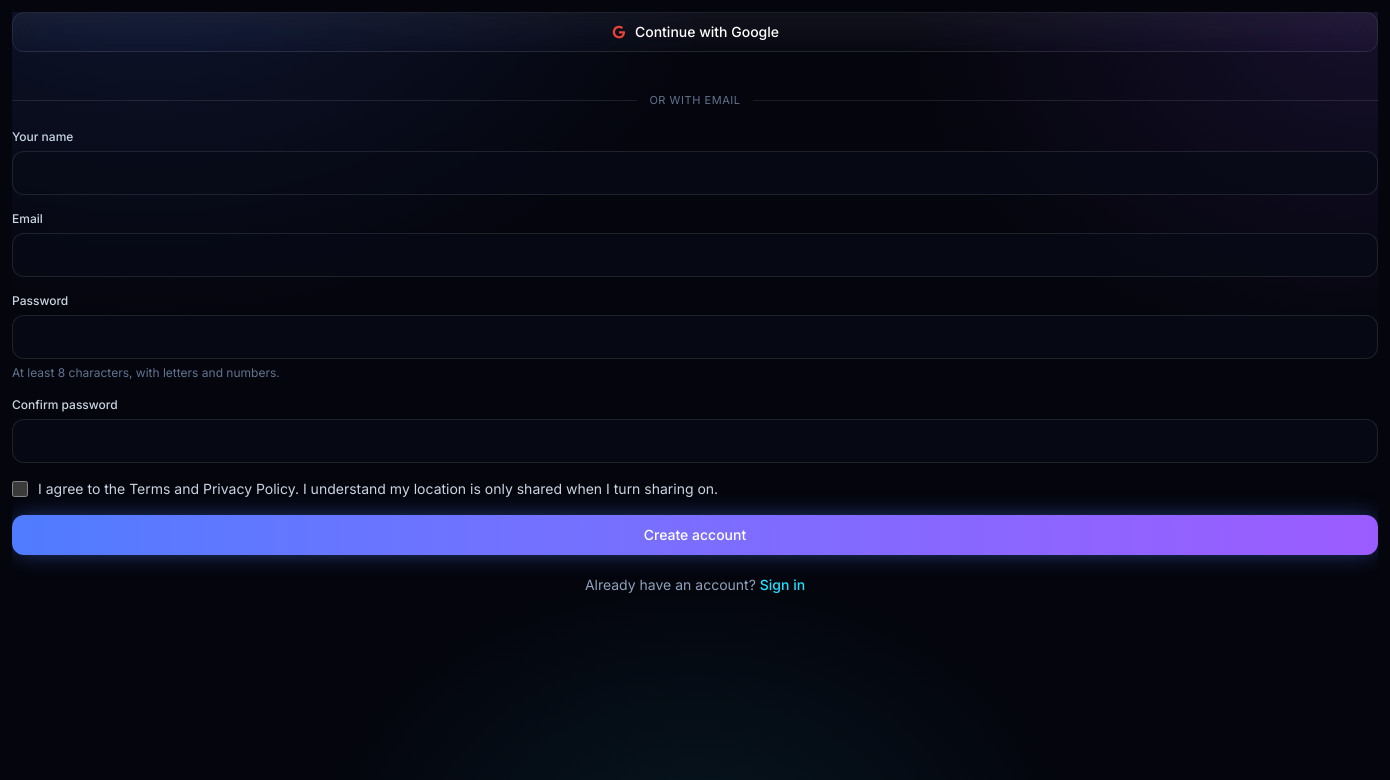
Test: RegisterForm › requires consent to the terms before creating an account
In the field labelled "Your name": (695, 172) [12, 150, 1378, 194], type "Ann Lee"
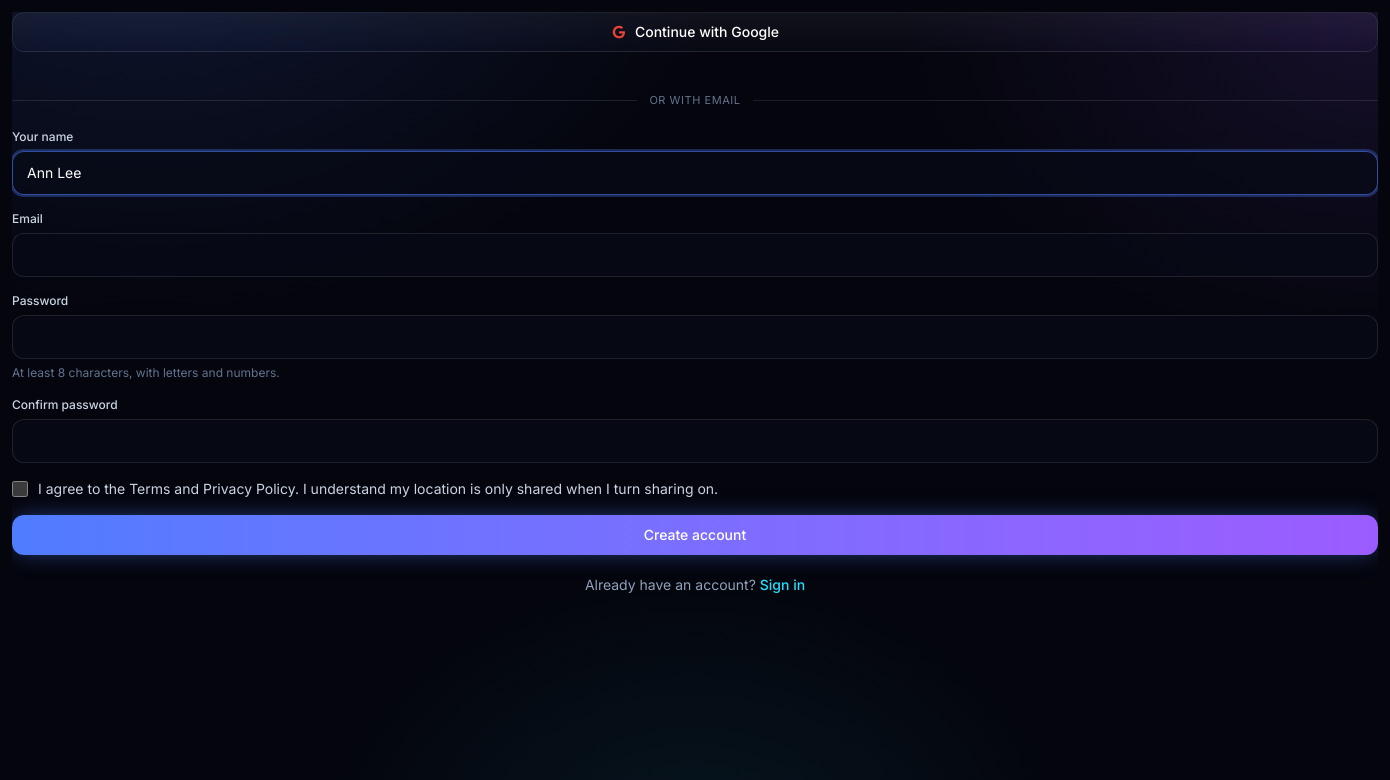
In the field labelled "Email": (695, 254) [12, 232, 1378, 276], type "ann@example.com"
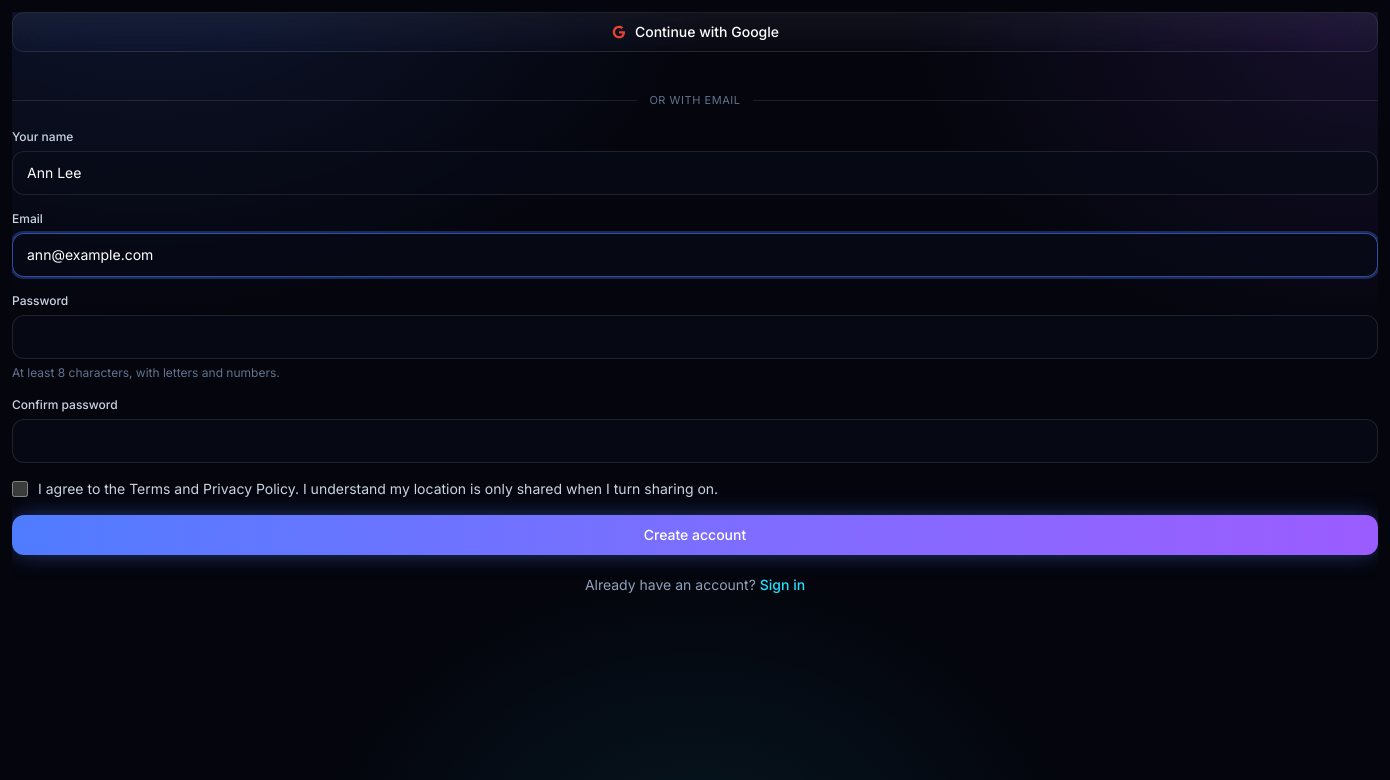
In the password field labelled "Password": (695, 336) [12, 314, 1378, 358], type "safe1234"
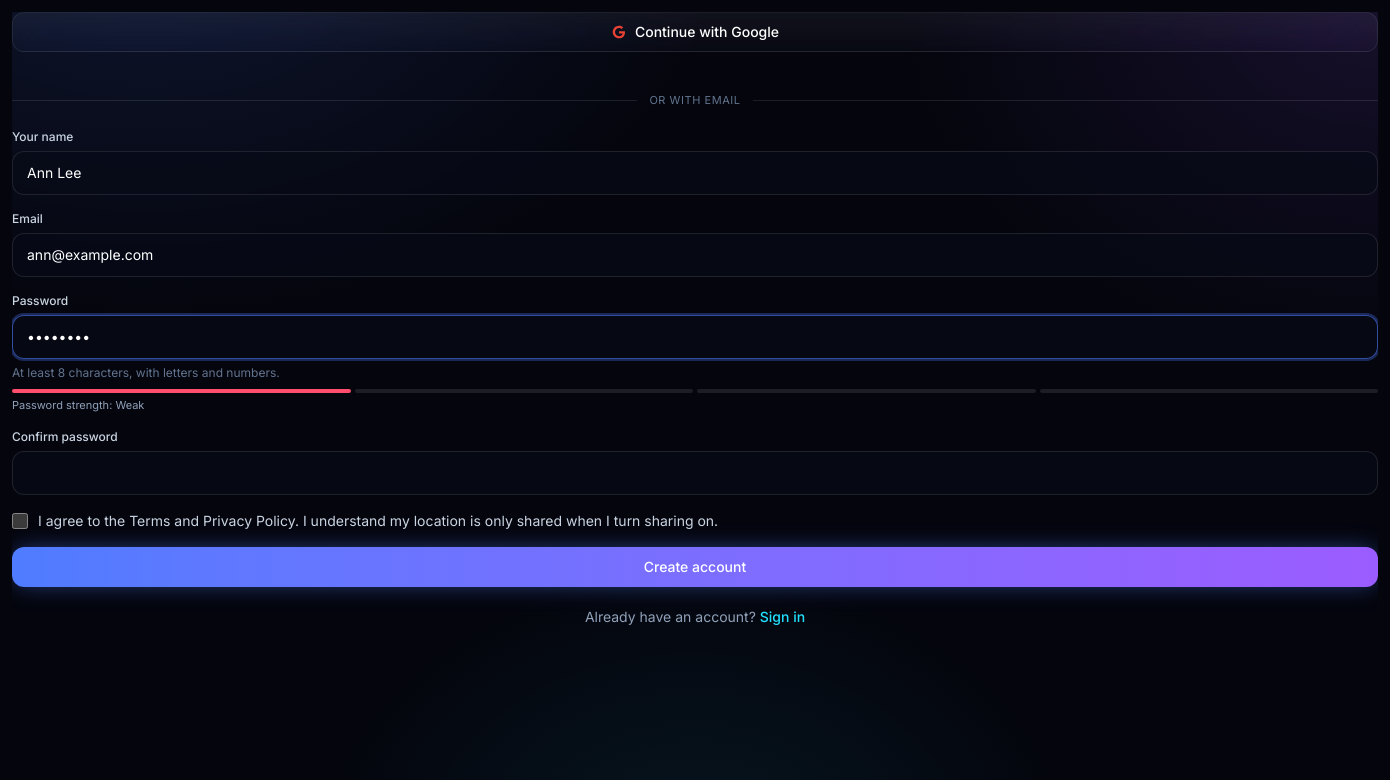
In the password field labelled "Confirm password": (695, 473) [12, 451, 1378, 495], type "safe1234"
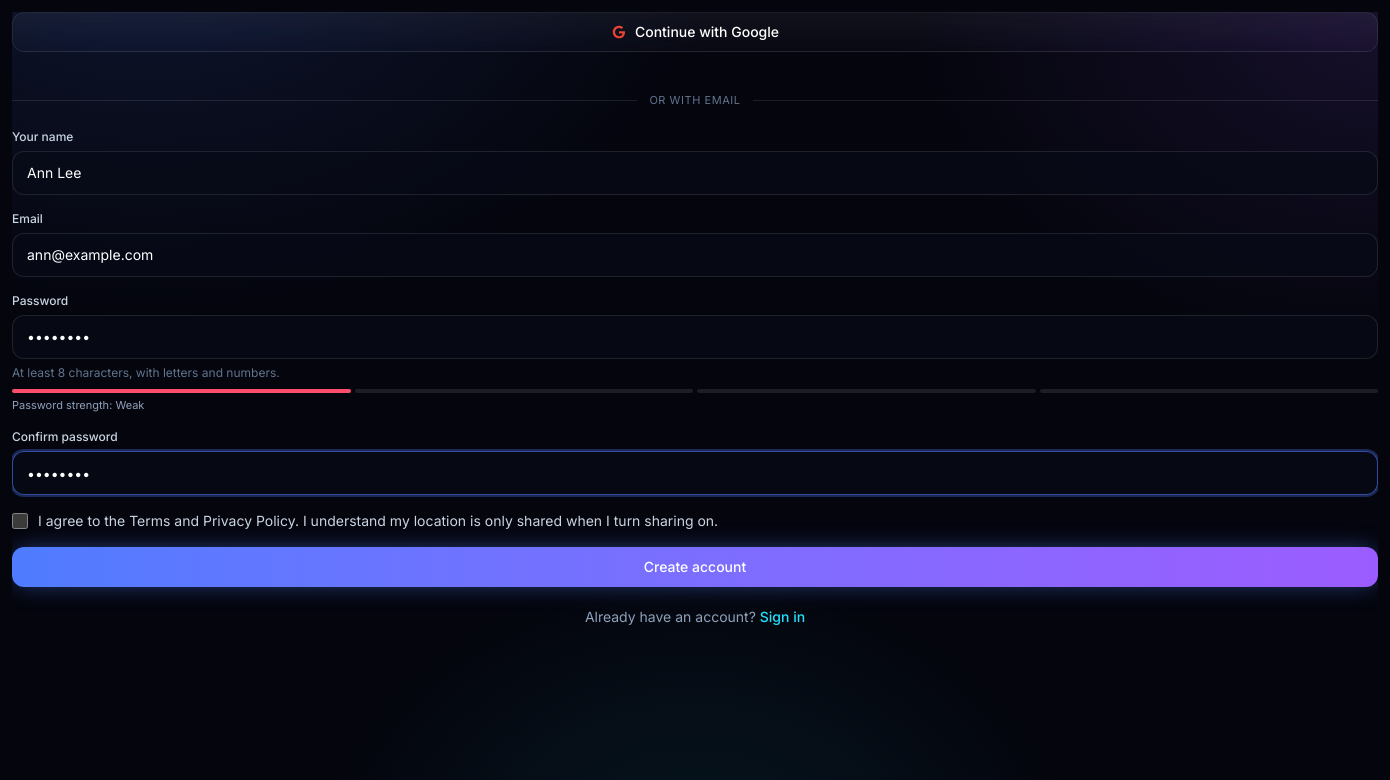
Click the button "Create account": (695, 567) [12, 547, 1378, 587]
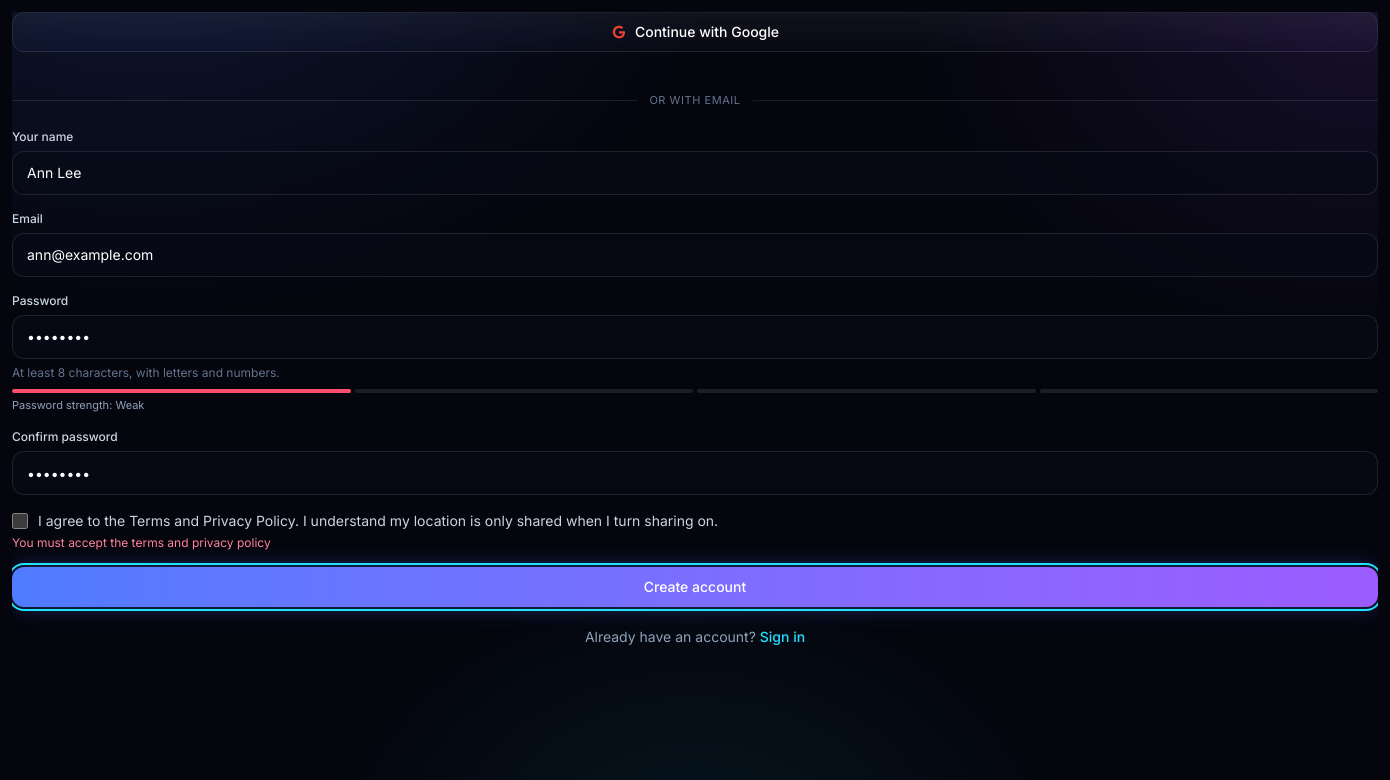
Check: the text "You must accept the terms and privacy policy" is shown, box [12, 535, 271, 550]
